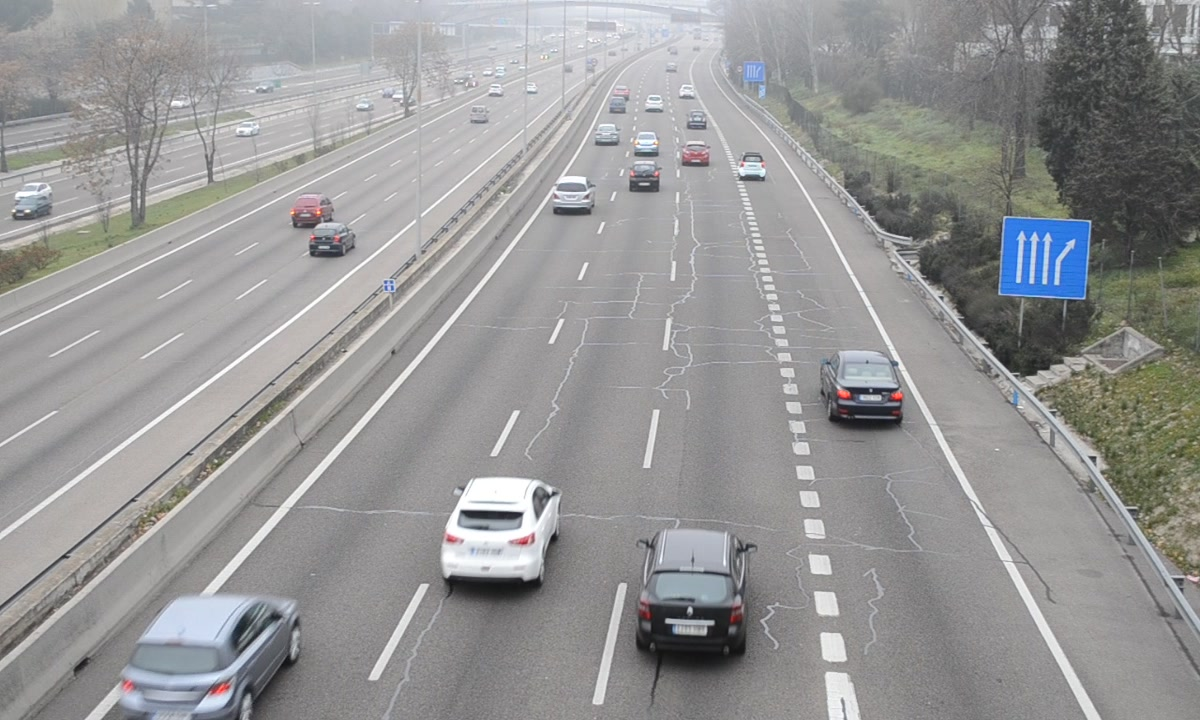car: (122, 596, 295, 720), (636, 527, 748, 661), (441, 477, 562, 586), (820, 349, 906, 428), (551, 176, 596, 215), (628, 160, 661, 193), (737, 151, 768, 182), (682, 141, 711, 168), (633, 131, 659, 157), (593, 123, 621, 147)
